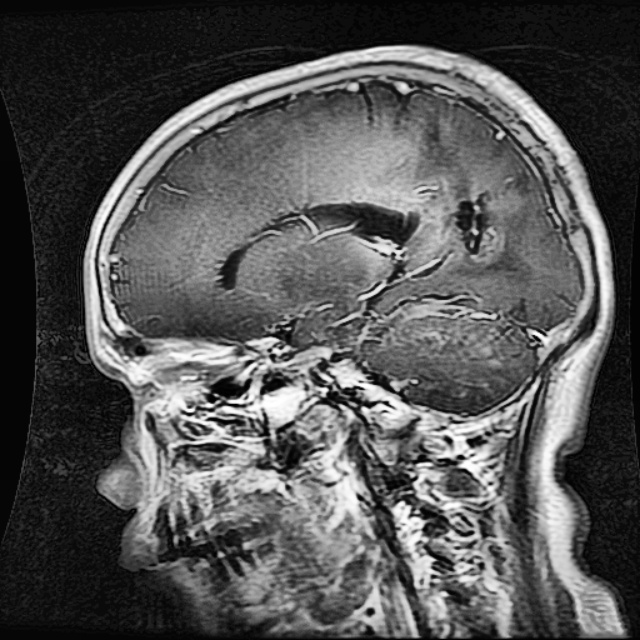Meningioma: (457, 184, 498, 259)
